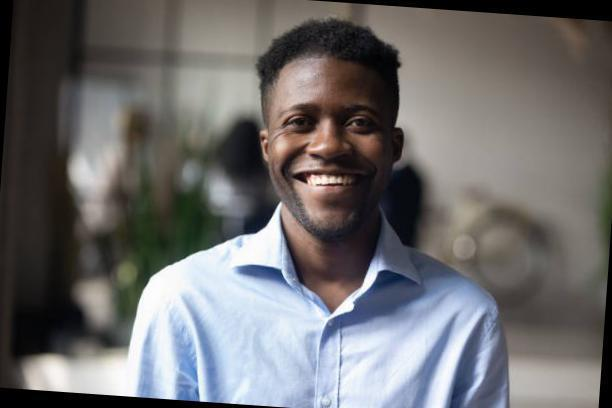Sober: (275, 70, 395, 226)
